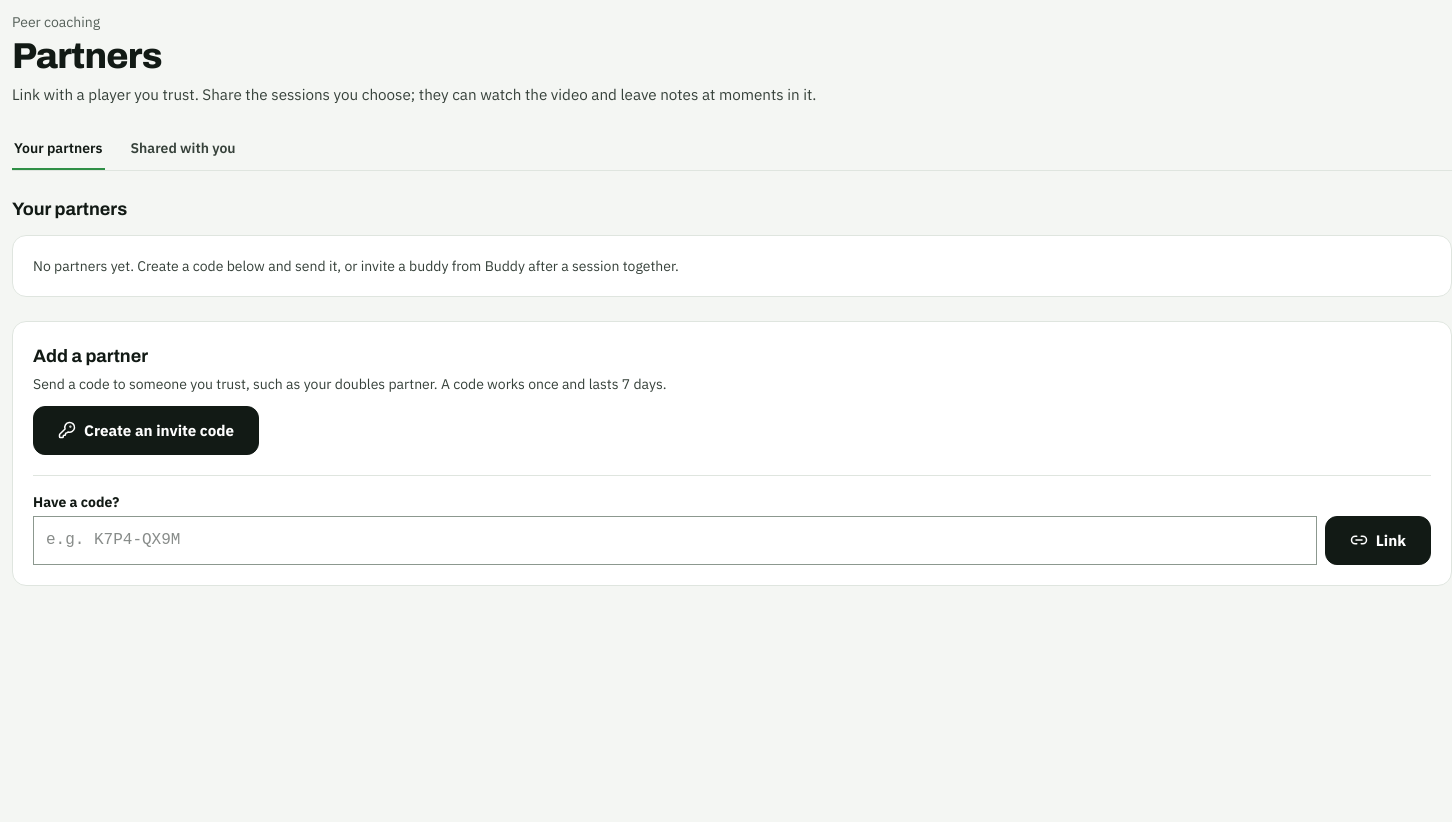
Test: Partners › links with a code someone sent, and explains a wrong code
Type "zzzz-zzzz" into the field labelled "Have a code?".
click(675, 540); type("zzzz-zzzz")  # box [33,516,1317,565]
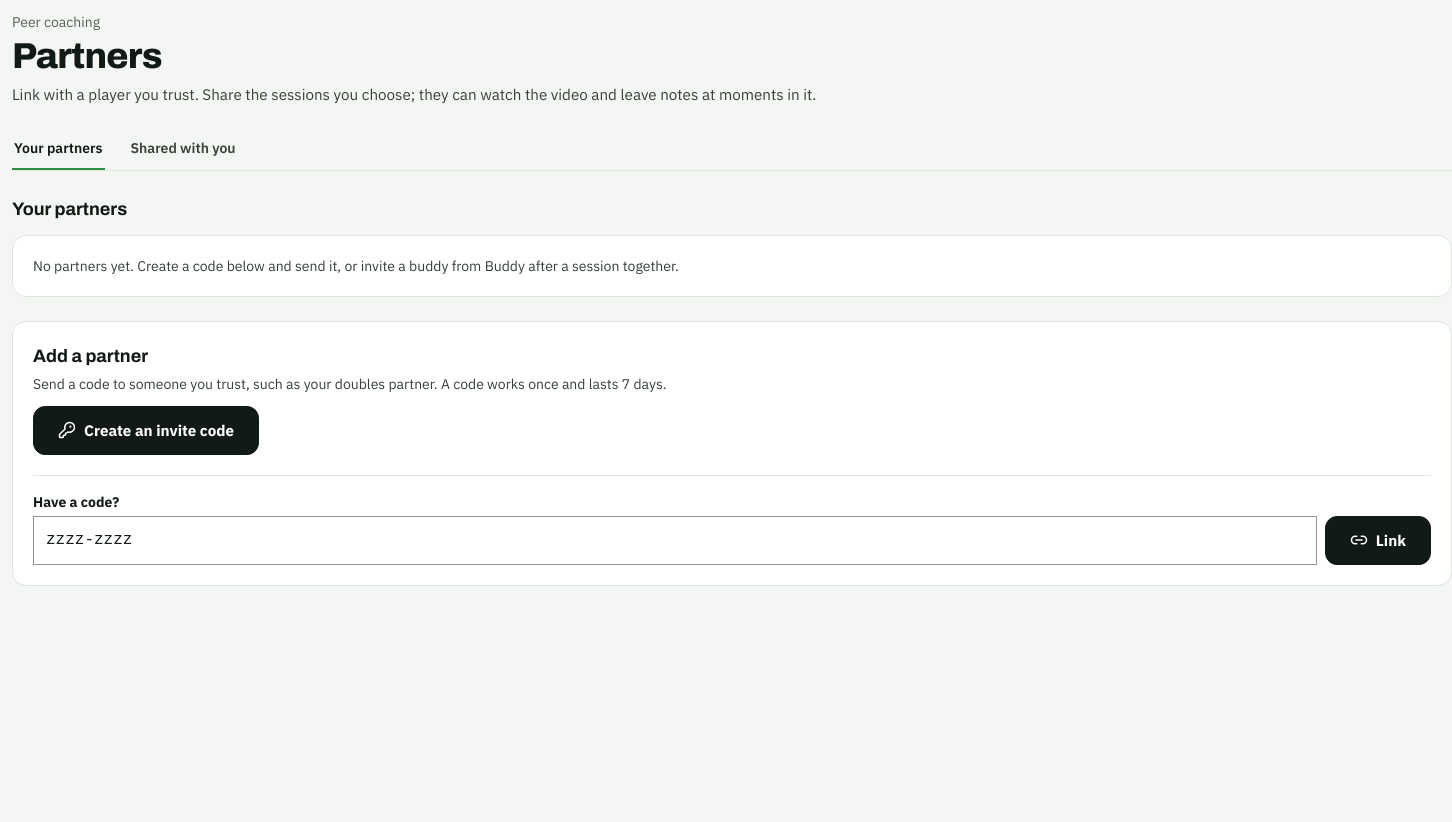
Click the button "Link".
click(1378, 540)  # box [1325,516,1431,565]
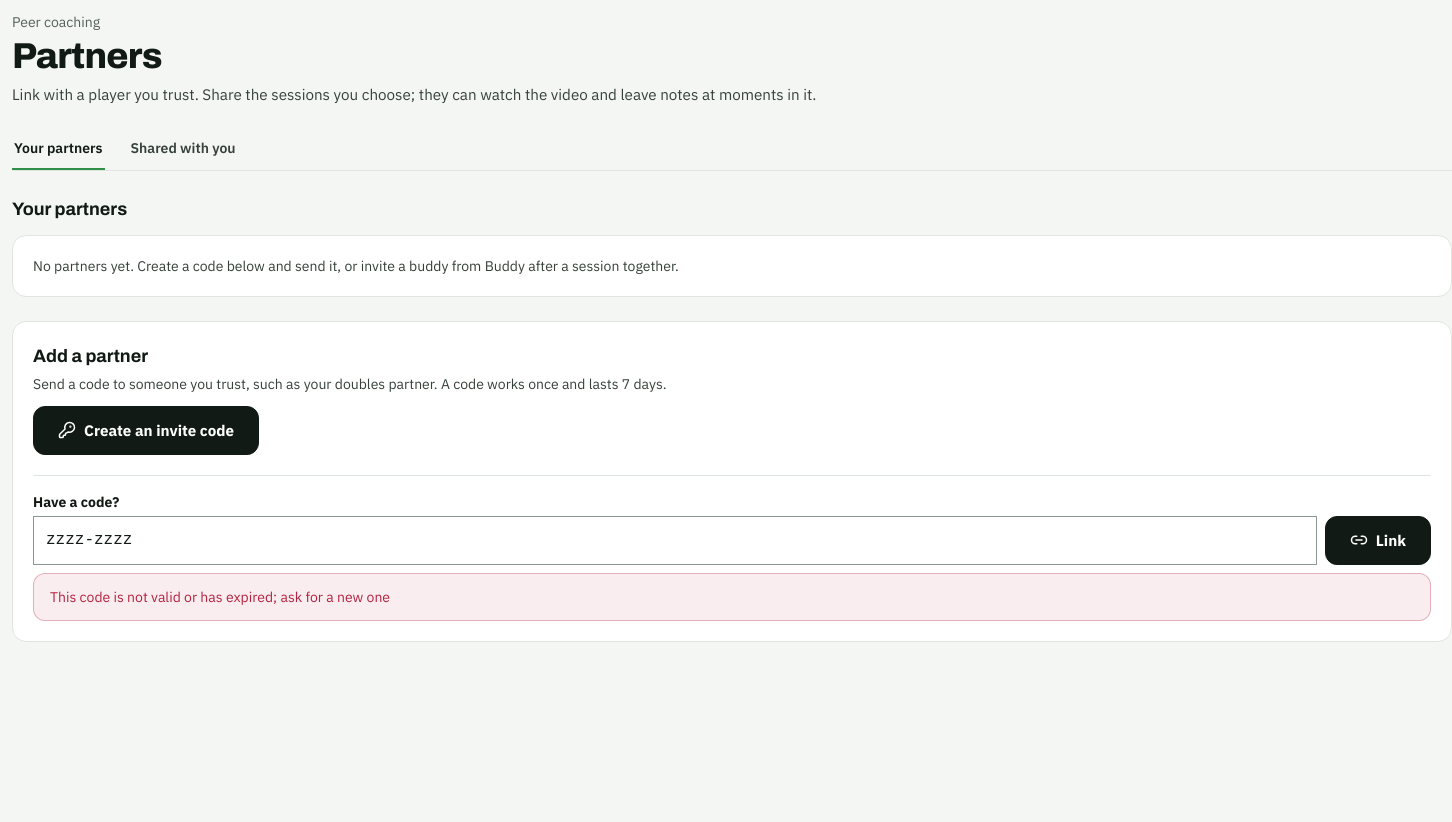
Expected: the text "This code is not valid or has expired; ask for a new one" is shown, [33,573,1431,621]
Replace the text in the field labelled "Have a code?" with "abcd-efgh" at {"x": 675, "y": 540}, box [33,516,1317,565]
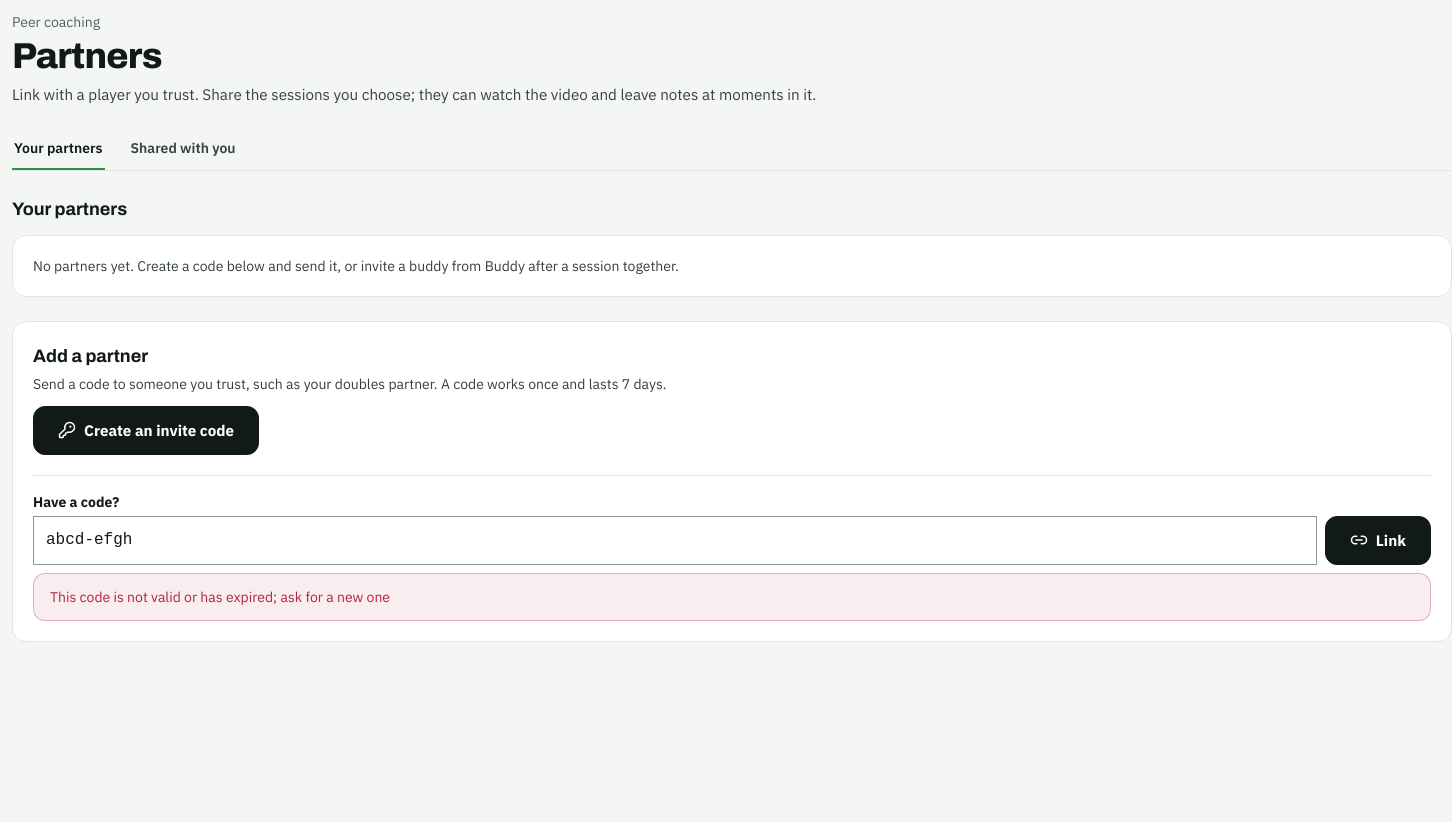
Click the button "Link".
click(1378, 540)  # box [1325,516,1431,565]
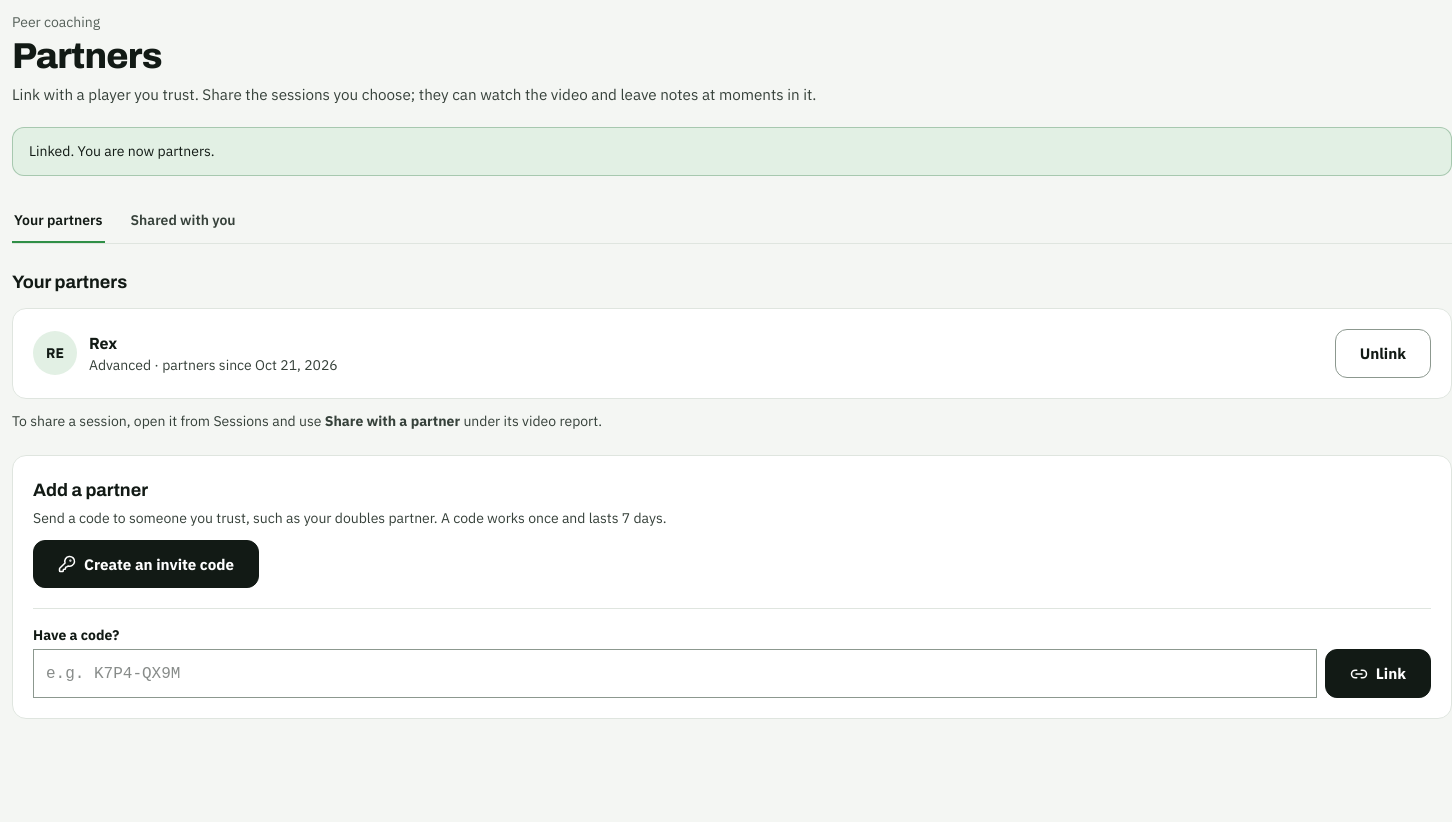
Expected: the text "Linked. You are now partners." is shown, [12,127,1451,176]
Expected: the text "Rex" is shown, [89,333,117,353]
